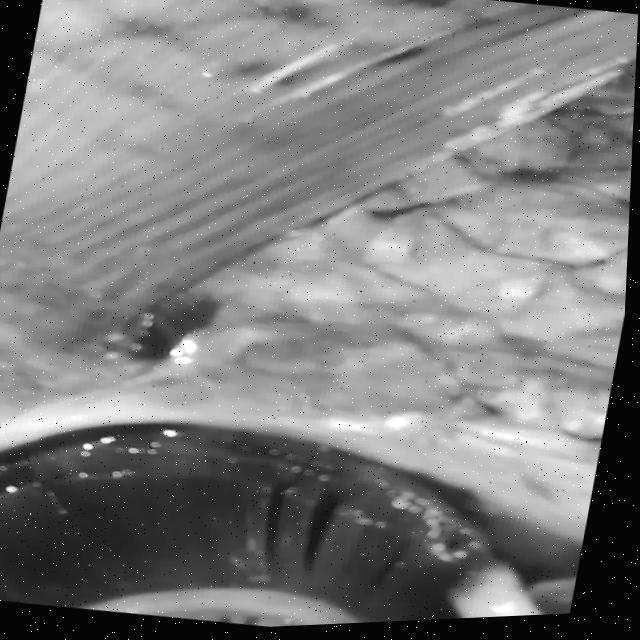Fresh: (0, 364, 569, 640)
